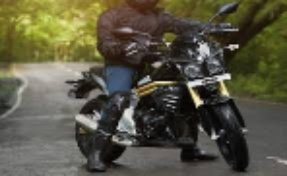Vehicle: (64, 3, 250, 173)
